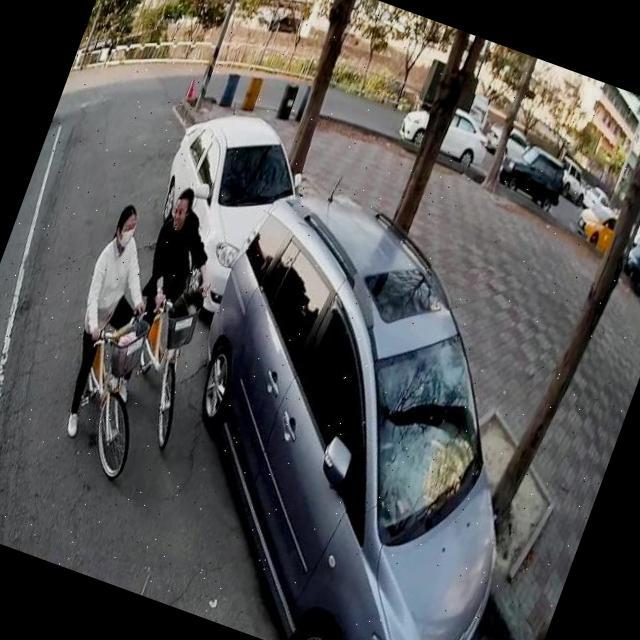person: (38, 196, 194, 454), (126, 178, 246, 342)
